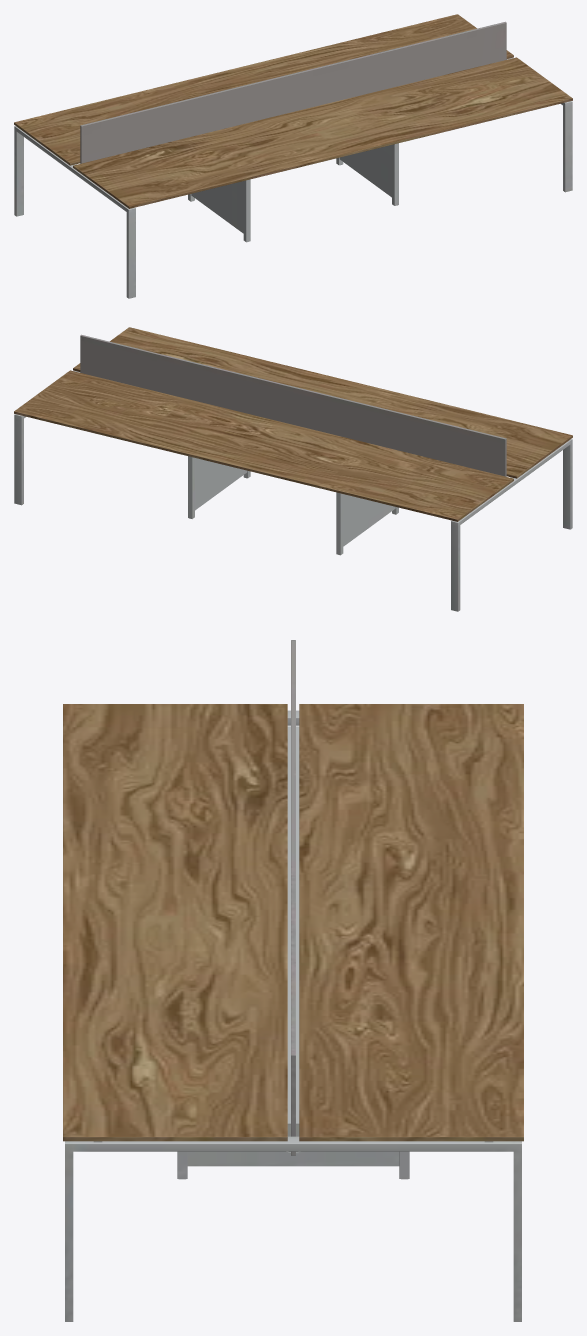
The model's file is dividertable.glb.
The picture shows the model from 3 angles, top to bottom: view 1: azimuth 30°, elevation 25°; view 2: azimuth 150°, elevation 25°; view 3: azimuth 270°, elevation 25°; orthographic projection. The views are drawn at different scales.
Parts seen in each view (by area): view 1: Object_2; view 2: Object_2; view 3: Object_2.
Boxes of the visible parts, <box> form: Object_2: <box>14,14,572,298</box>; Object_2: <box>14,327,572,611</box>; Object_2: <box>63,640,523,1321</box>.
Size of the model in its own units: 3.91 by 1.09 by 1.76.
Materials: 1 (1 with a texture image).
